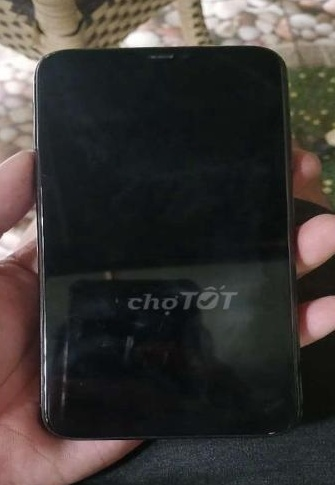scratch: (36, 391, 54, 422), (143, 48, 178, 61), (37, 54, 61, 62), (263, 429, 279, 438)
